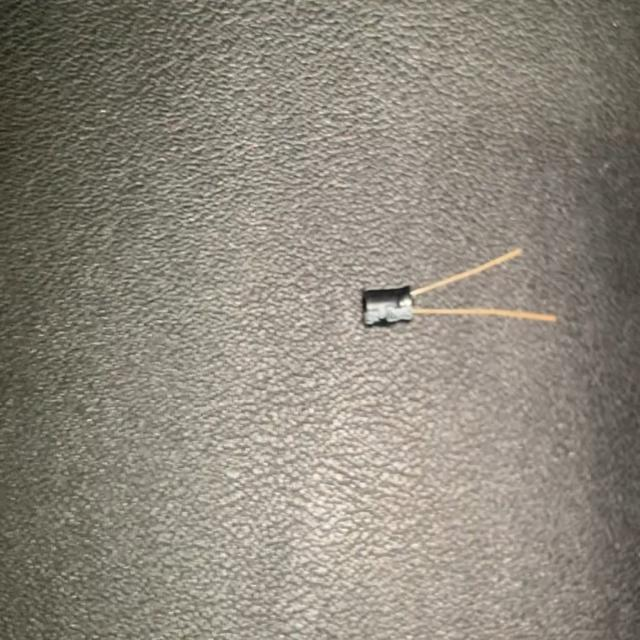capacitor: (358, 242, 560, 334)
